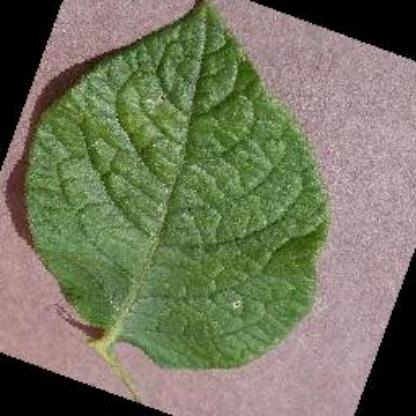Healthy-plant: (0, 3, 366, 377)
